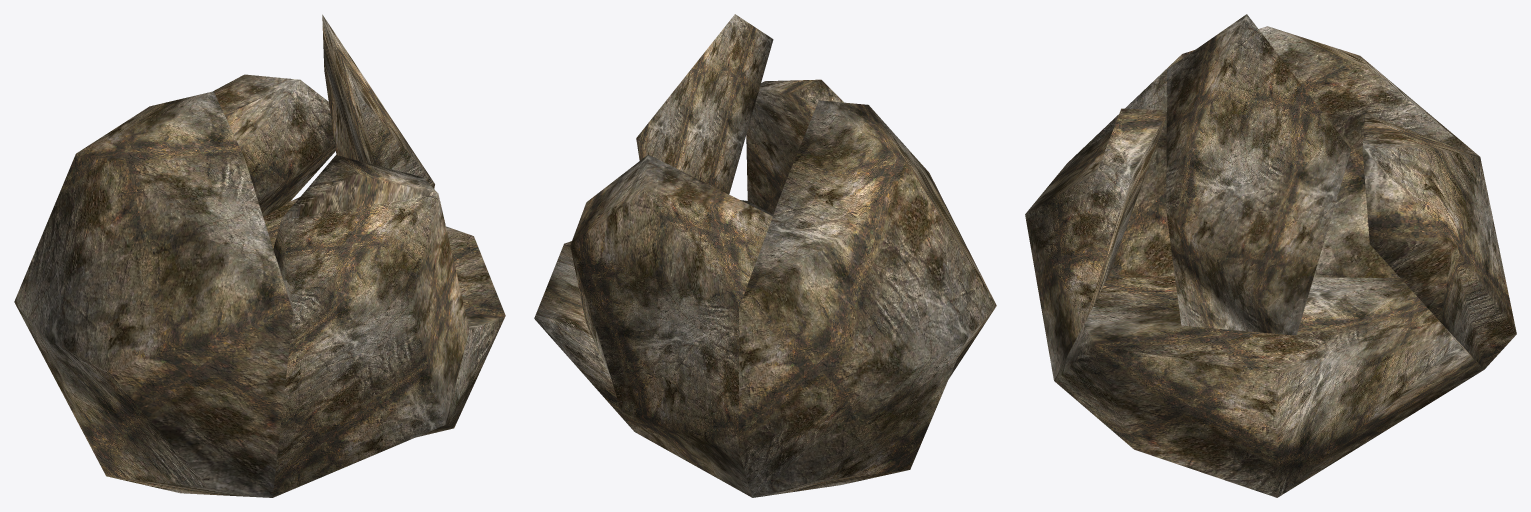
The model's file is poi_all_lair_rock_shelter_large_l3.fbx.
The picture shows the model from 3 angles, left to right: view 1: azimuth 30°, elevation 25°; view 2: azimuth 150°, elevation 25°; view 3: azimuth 270°, elevation 25°; orthographic projection. The views are drawn at different scales.
Parts seen in each view (by area): view 1: mesh_node; view 2: mesh_node; view 3: mesh_node.
Boxes of the visible parts, x1,y1,x2,y2 form: mesh_node: (14,14,505,497); mesh_node: (534,14,996,497); mesh_node: (1025,14,1516,497).
Bounding box in the file's own units: 4.37 × 4.51 × 4.32.
